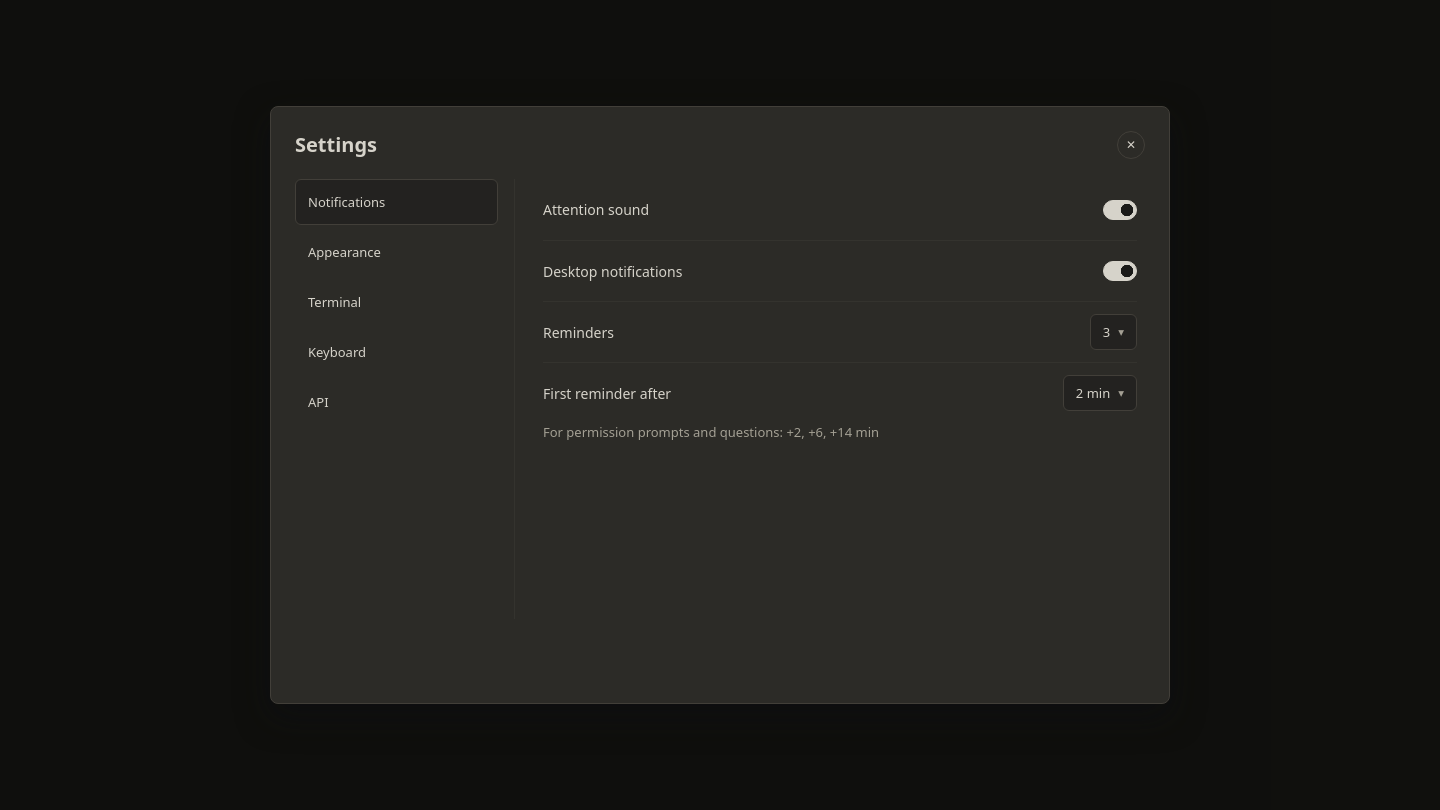
Test: Settings — one error line, and ✓ Saved stays where it belongs (review fixes) › a refusal right after a success clears ✓ Saved — never both at once
This screenshot has width=1440, height=810.
Click the switch with test id "settings-sound-toggle": (1120, 210) [1103,200,1137,220]
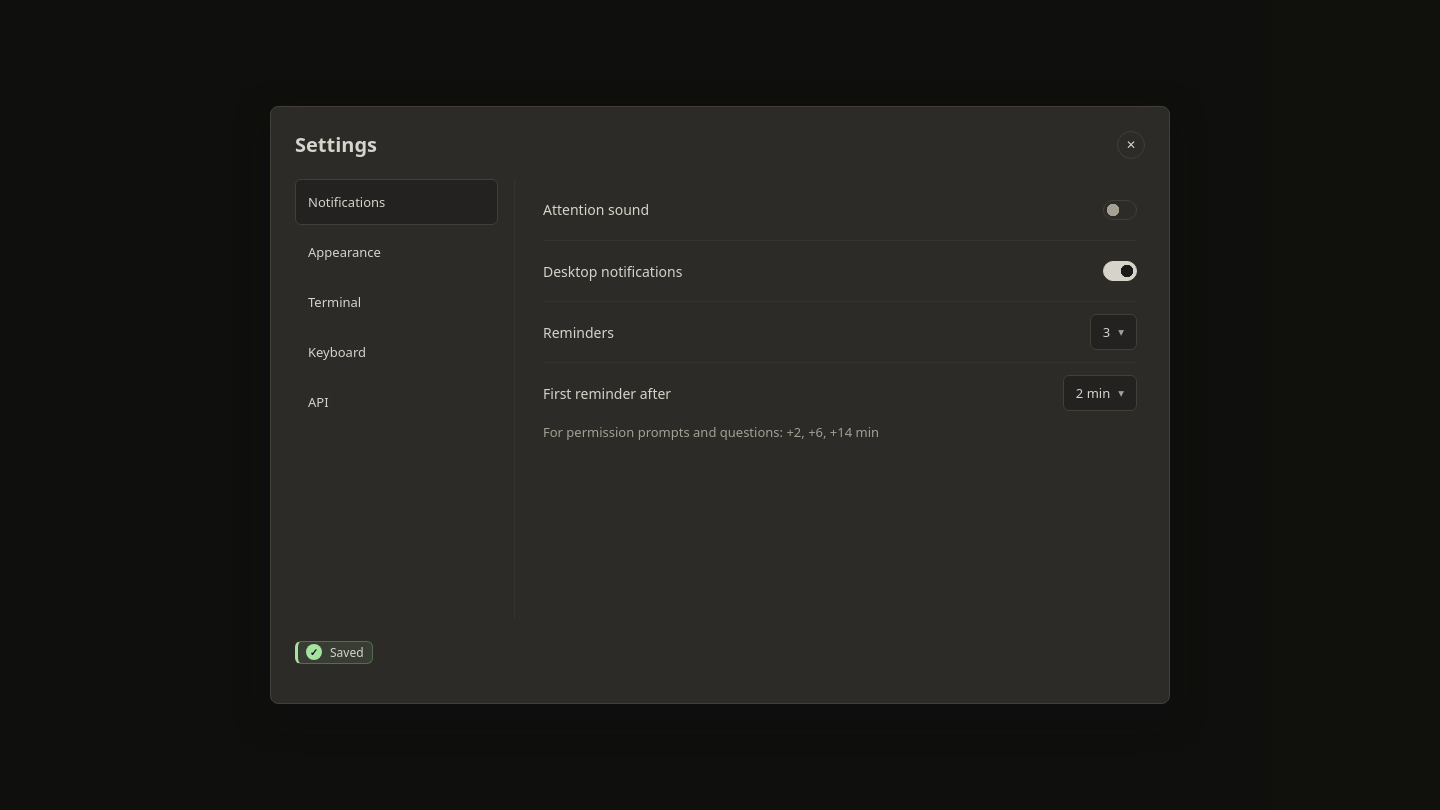
Expected: the element with test id "settings-success" reads "Saved", [330,644,364,660]
Click the switch with test id "settings-notifications-toggle": (1120, 271) [1103,261,1137,281]
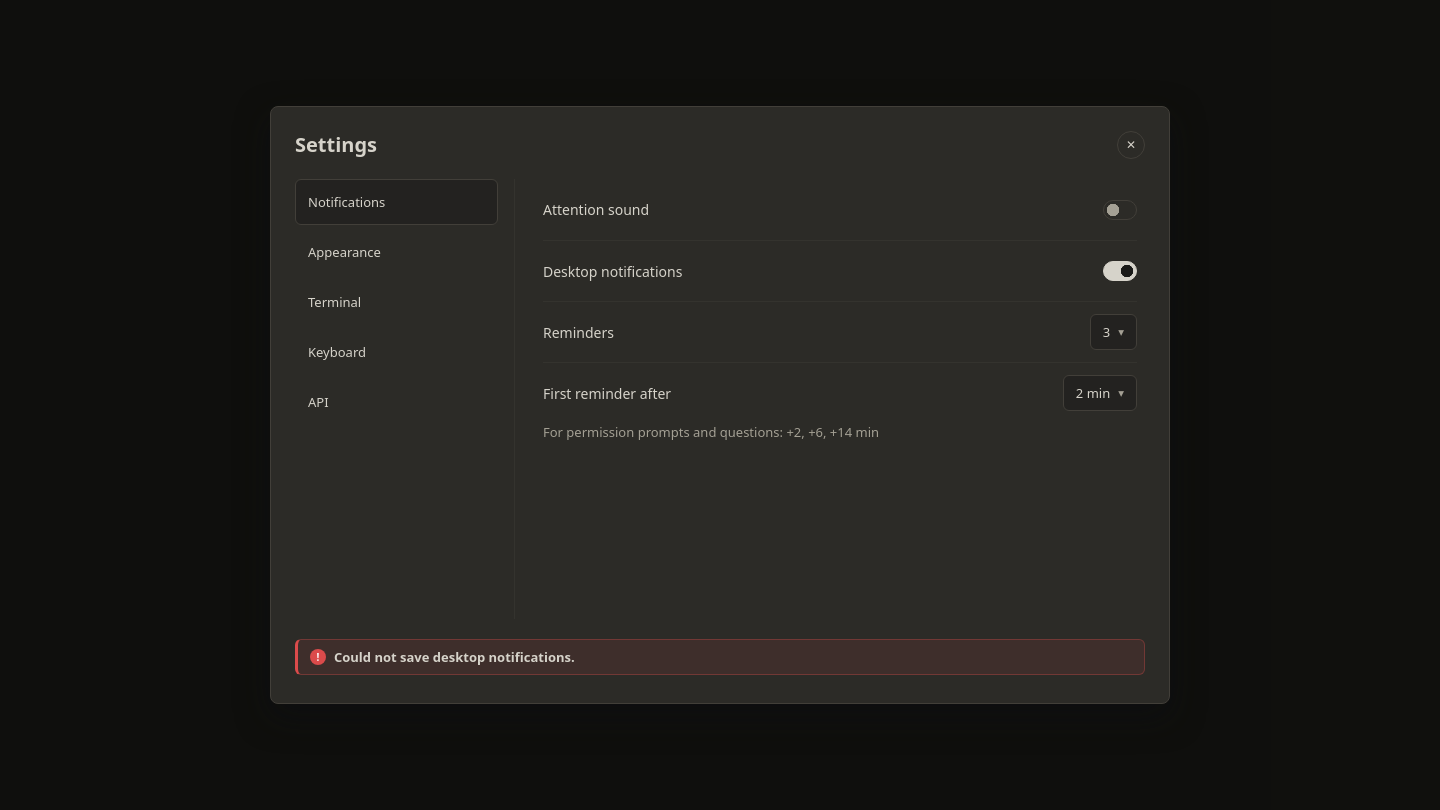
Expected: the message with test id "settings-success" reads "Could not save desktop notifications.", [334,648,575,666]
